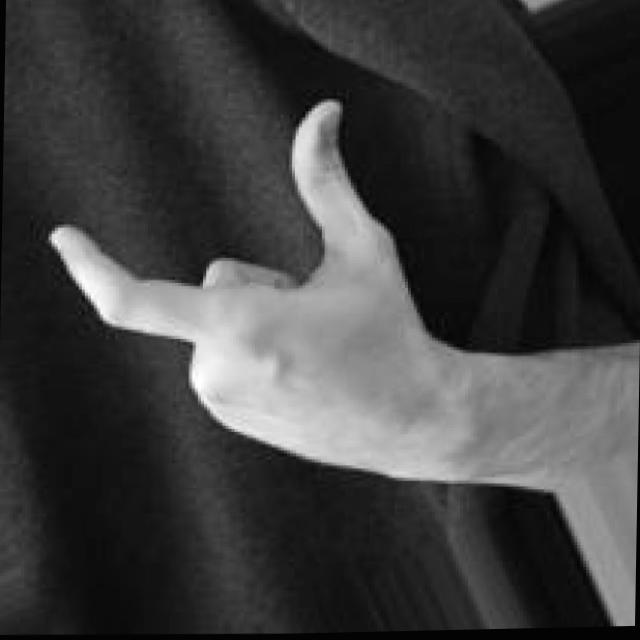U: (42, 80, 460, 497)
